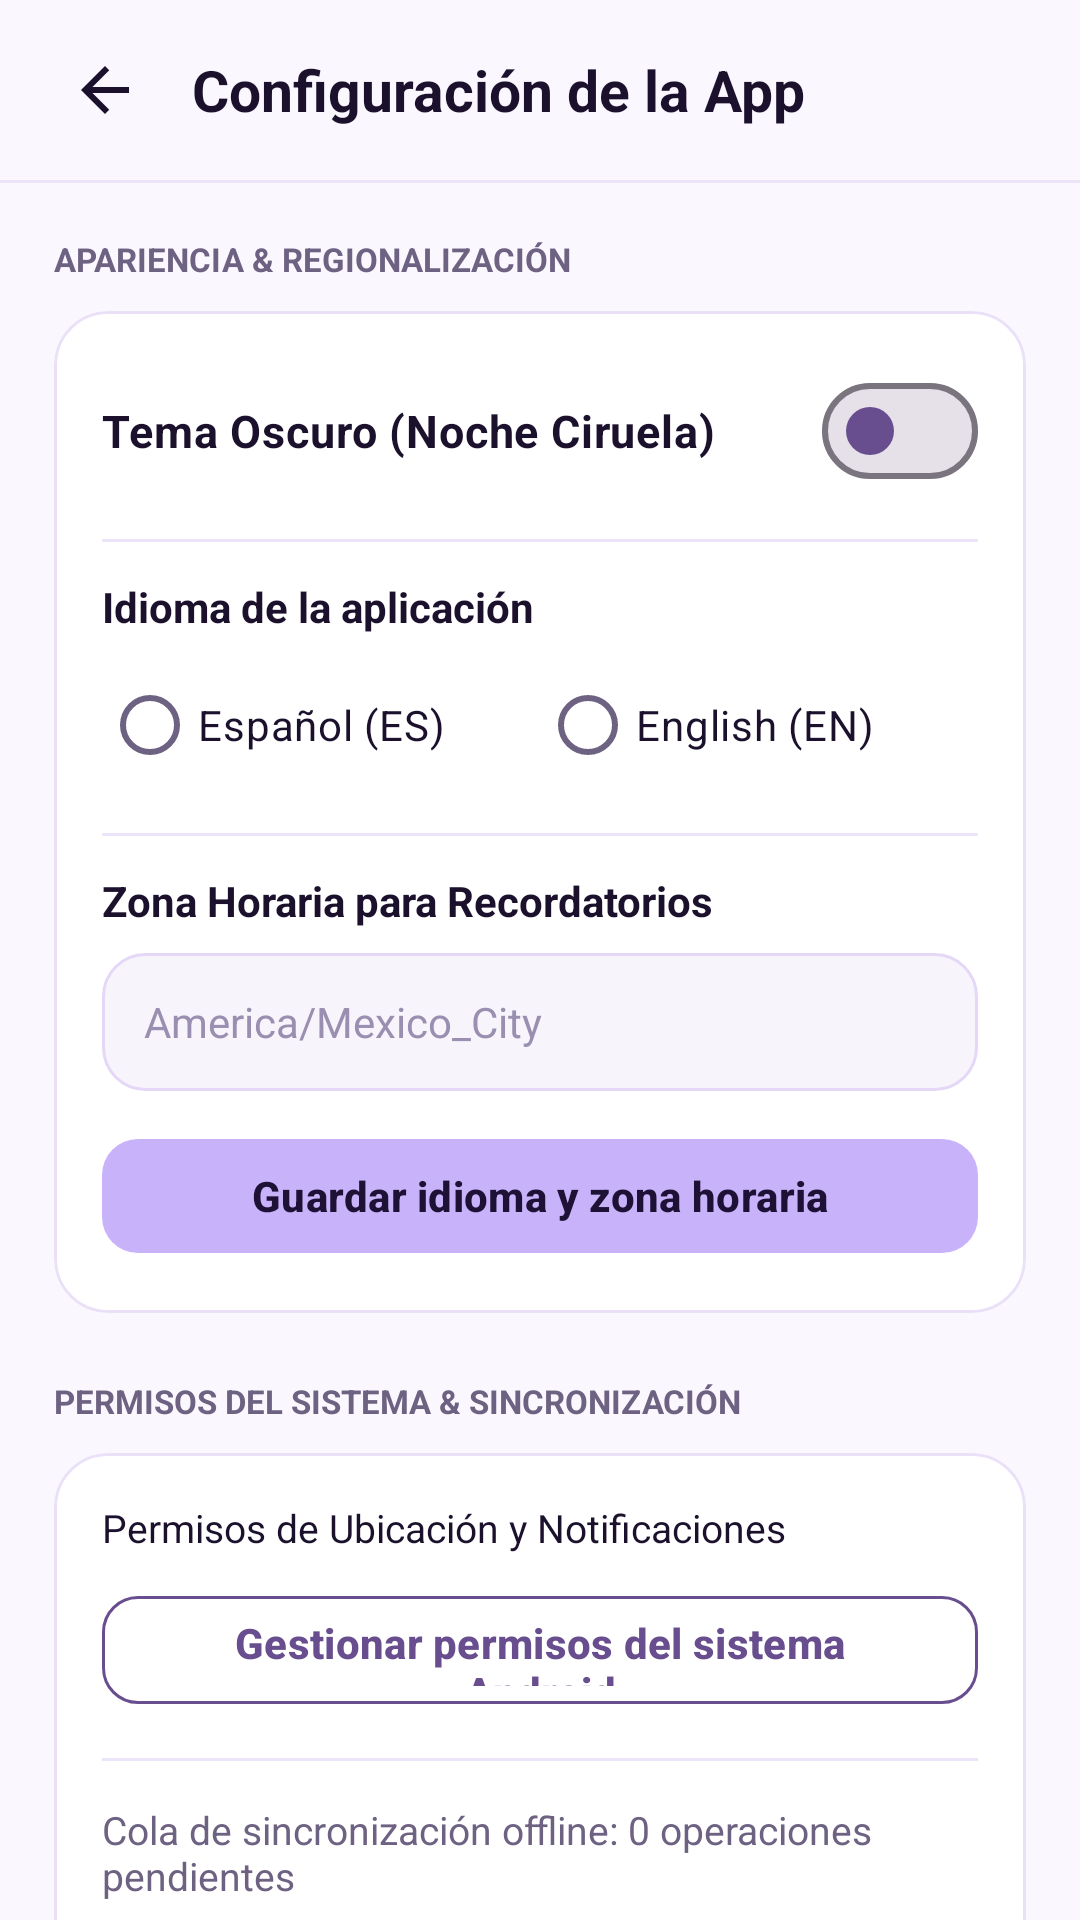

Screen size 1080x1920. Icon name, then its center in pixels as point (x, y):
Volver: point (105, 90)
